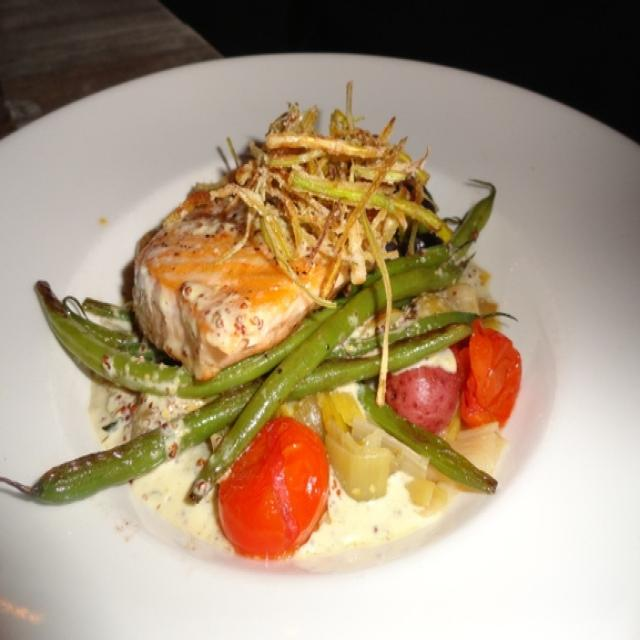熟制海鲜: (11, 97, 609, 598)
